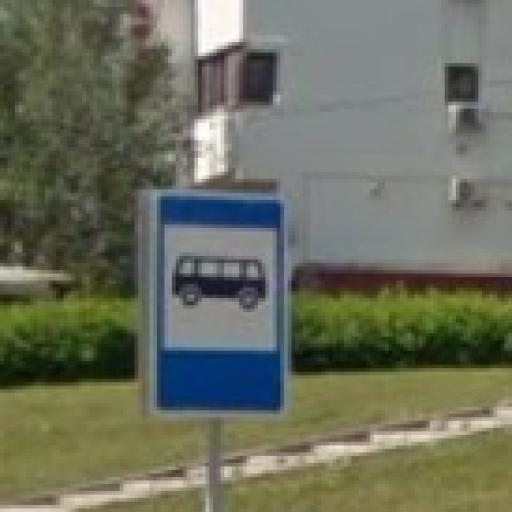traffic_sign: (151, 187, 293, 422)
